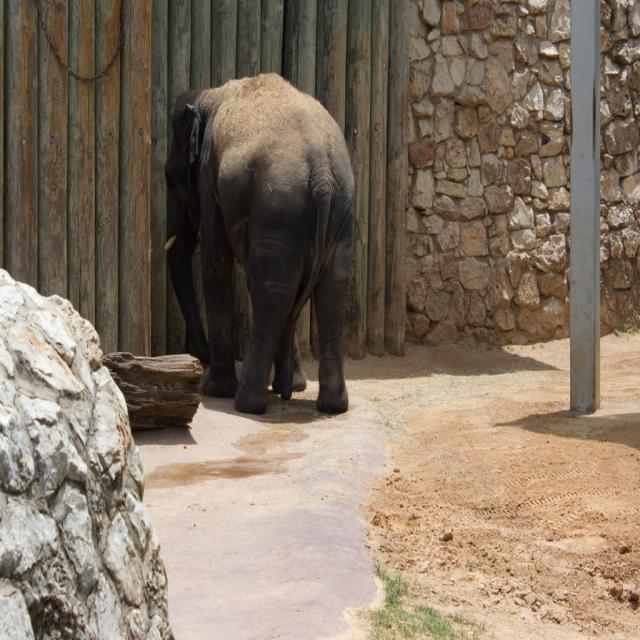Elephant: (159, 72, 356, 417)
